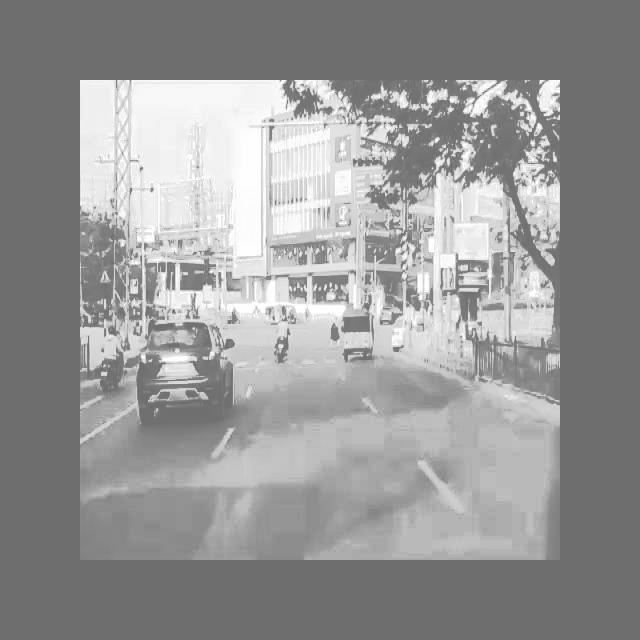Auto-Rickshaw: (342, 298, 380, 370)
Bike: (92, 322, 128, 402), (270, 312, 295, 362)
Car: (139, 311, 239, 439)
